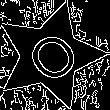O_SE: (16, 22, 84, 89)
